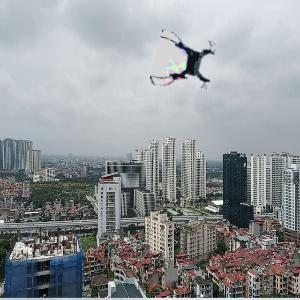drone: (156, 32, 219, 95)
